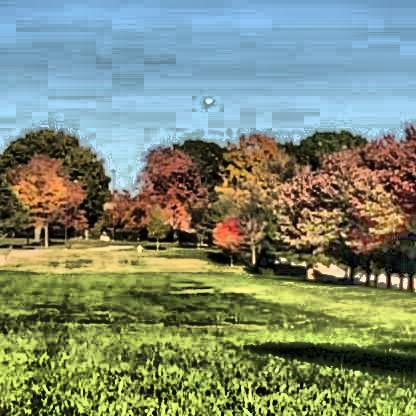golfball: (201, 94, 213, 104)
